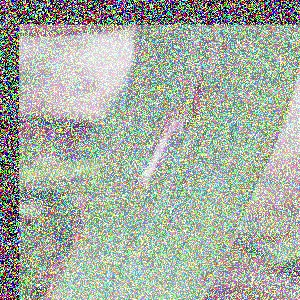Brown_Spot: (123, 81, 213, 213)
